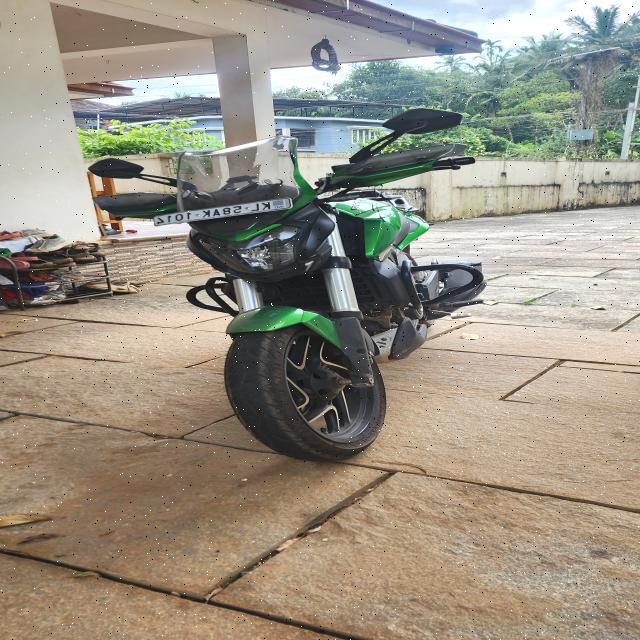headlight: (198, 224, 300, 274)
